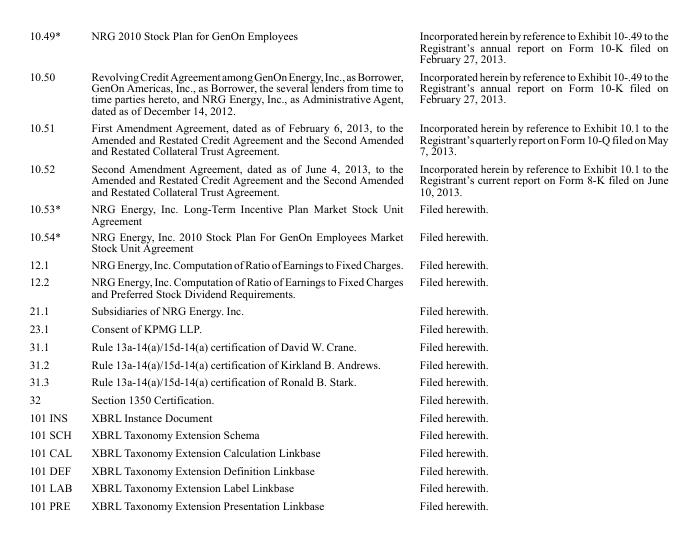table: (28, 29, 667, 511)
table column: (80, 29, 410, 511), (410, 29, 667, 511), (28, 29, 80, 511)
table column header: (28, 29, 667, 66)
table row: (28, 66, 667, 118), (28, 118, 667, 159), (28, 159, 667, 199), (28, 29, 667, 66), (28, 272, 667, 301), (28, 199, 667, 227), (28, 227, 667, 255), (28, 301, 667, 319), (28, 319, 667, 337), (28, 354, 667, 372), (28, 372, 667, 390), (28, 407, 667, 425), (28, 425, 667, 443), (28, 460, 667, 478), (28, 478, 667, 496), (28, 255, 667, 272), (28, 337, 667, 354), (28, 390, 667, 407), (28, 443, 667, 460), (28, 496, 667, 511)
